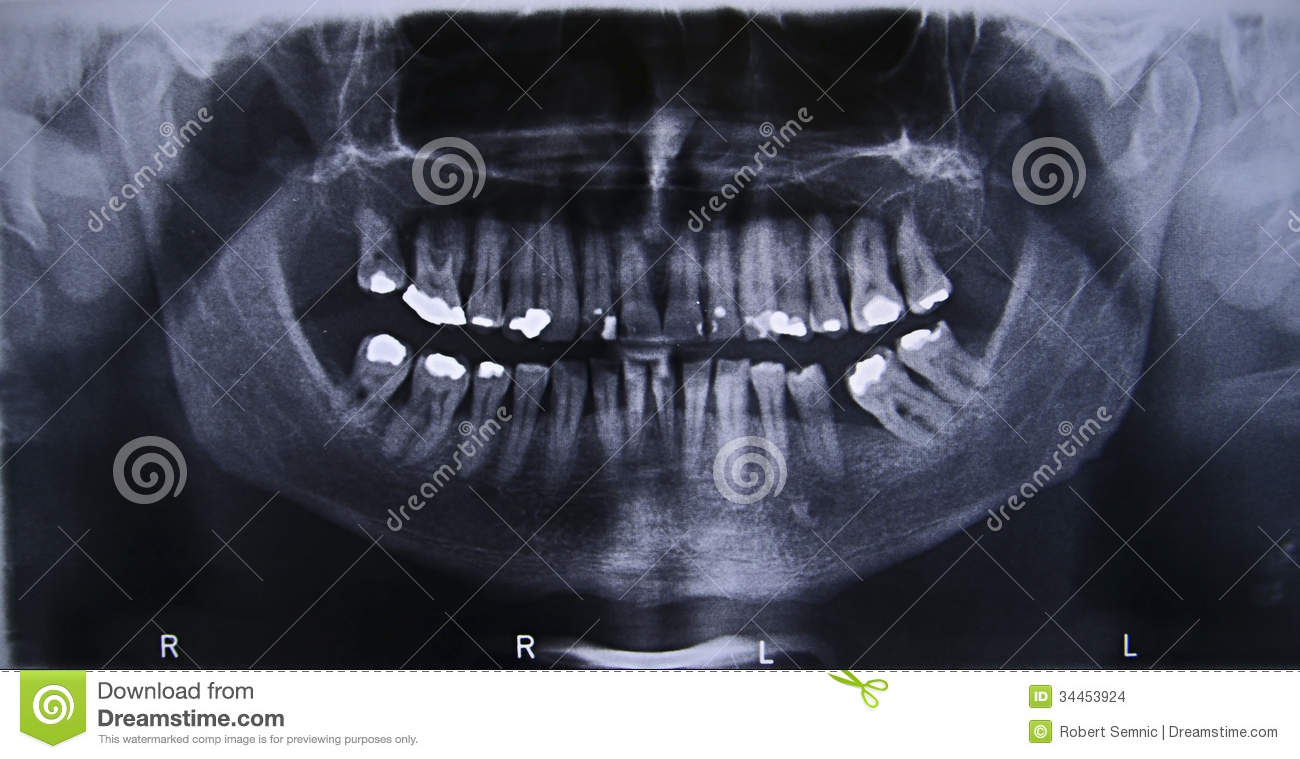canine: (547, 354, 588, 497), (715, 352, 747, 488)
incisor: (583, 358, 638, 489), (617, 214, 668, 354), (704, 205, 746, 343), (666, 219, 709, 350), (580, 217, 619, 356), (613, 356, 653, 472), (644, 351, 683, 465), (682, 354, 711, 494)
premolar: (791, 357, 835, 483), (754, 345, 793, 478), (513, 361, 551, 480)
